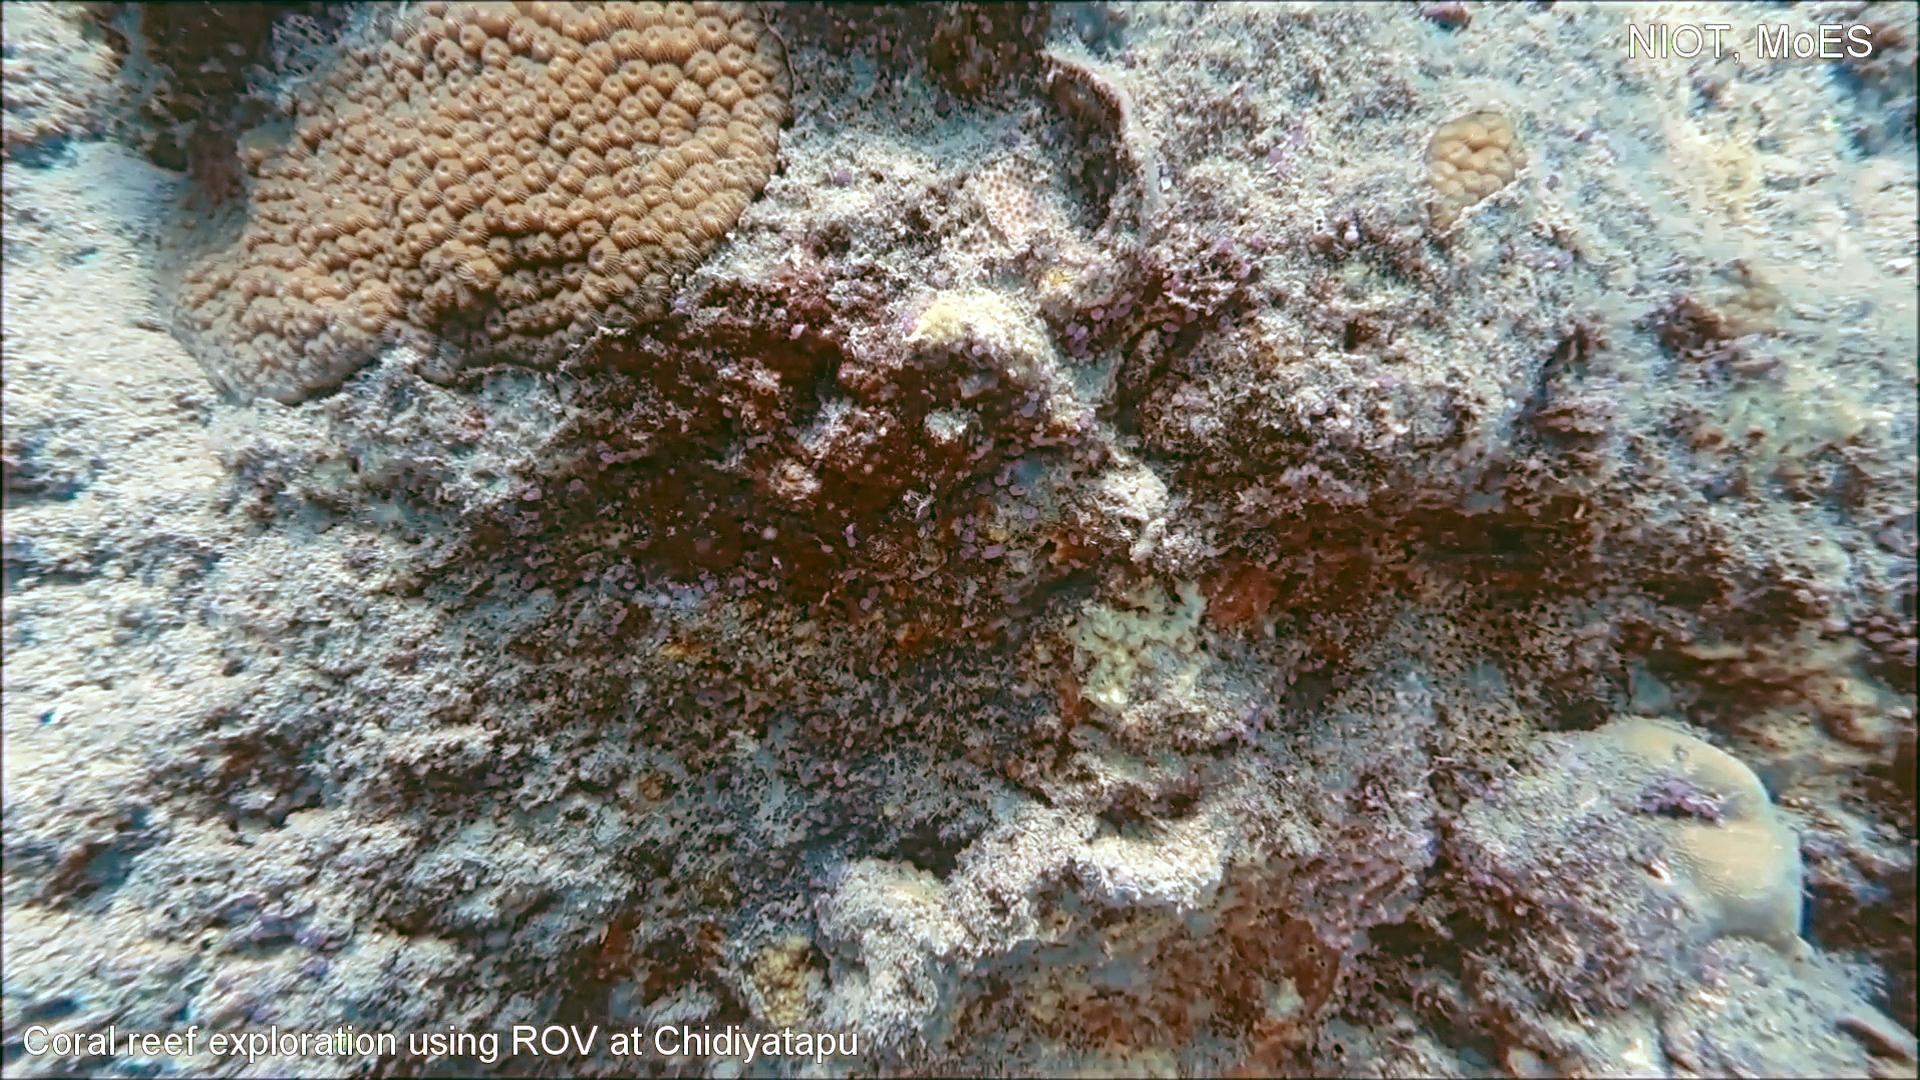Montastraea: (167, 0, 807, 413), (1414, 104, 1536, 244)
